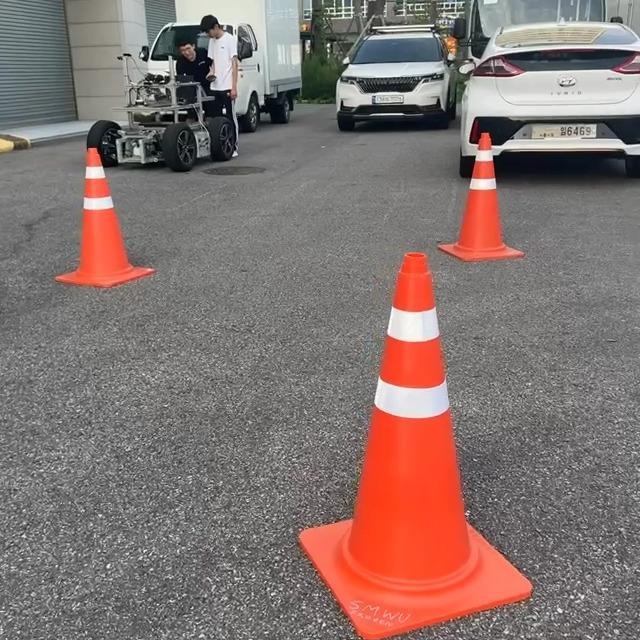fallen_object: (225, 227, 502, 560), (40, 136, 165, 317), (443, 172, 547, 300)
